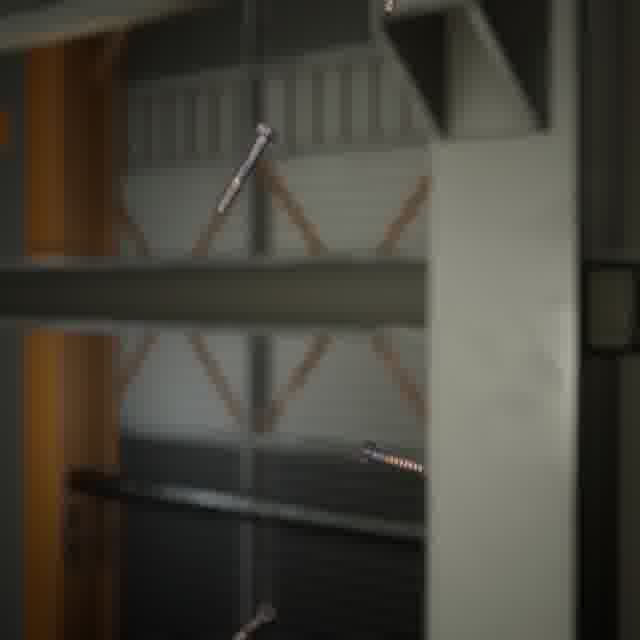bolt: (209, 117, 283, 219), (354, 434, 432, 478), (225, 598, 280, 640)
